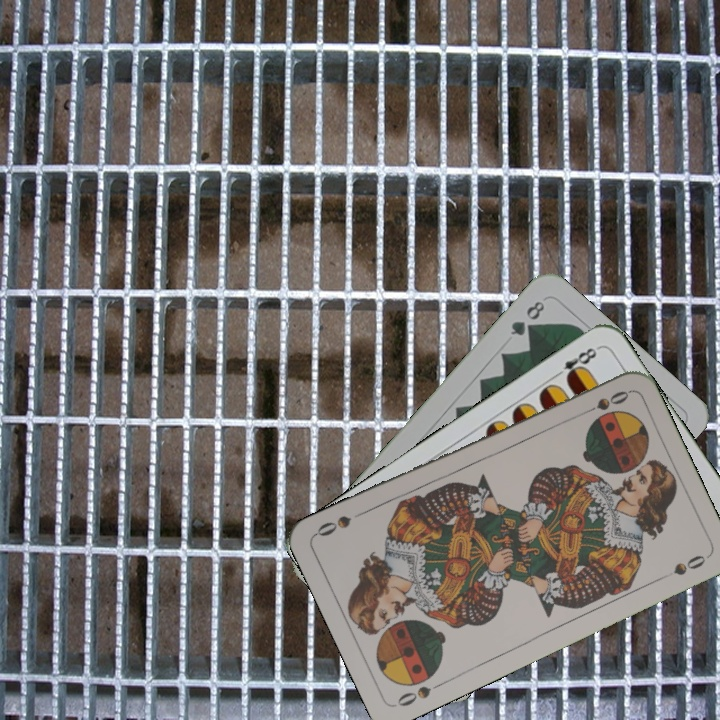E8: (549, 343, 602, 384)
G8: (506, 296, 547, 339)
SO: (576, 386, 632, 419), (393, 677, 447, 709)
